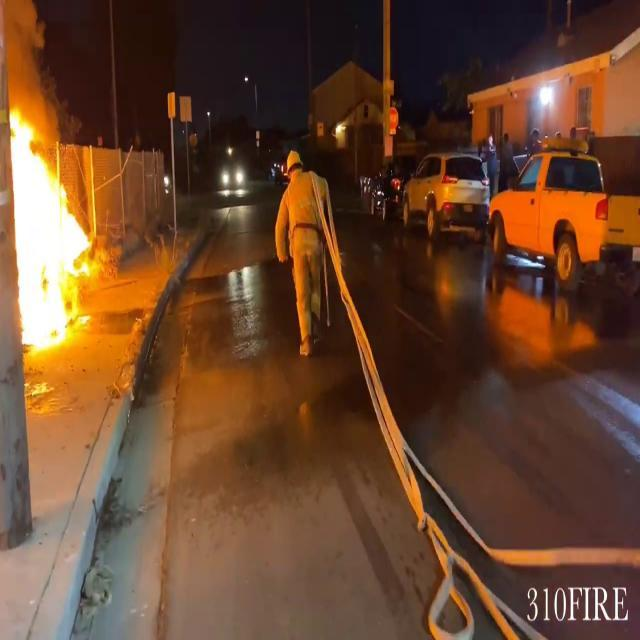Fire: (1, 100, 94, 356)
